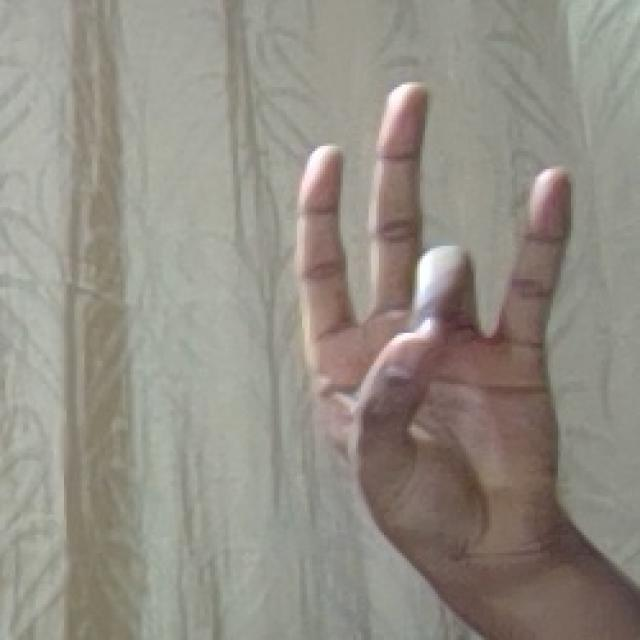Numeric-7: (283, 75, 573, 610)
